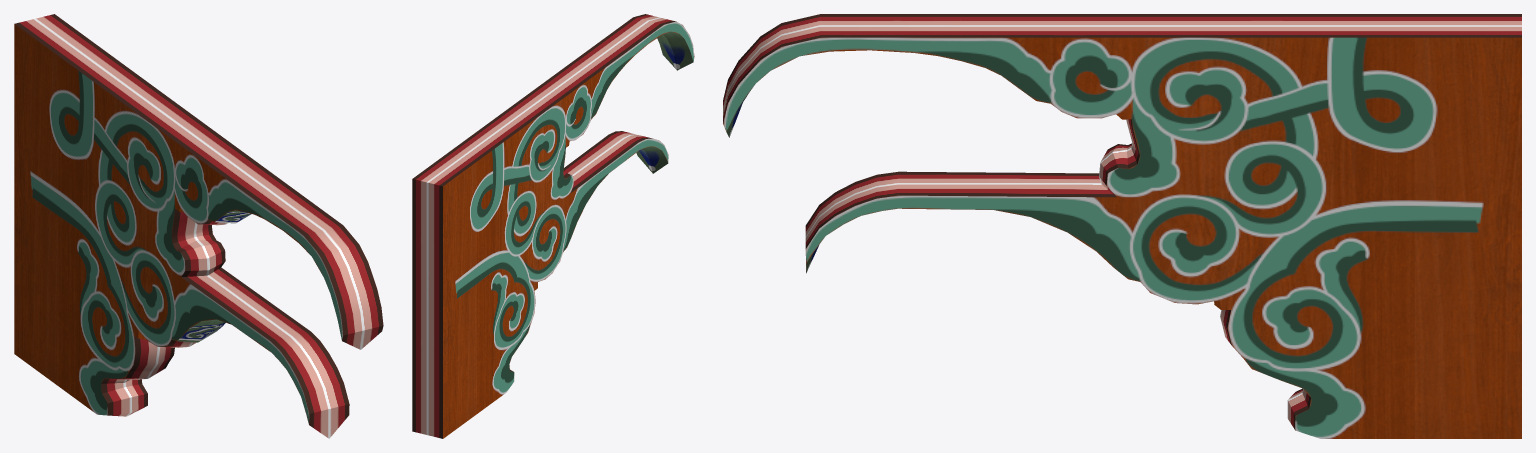
Rendered from SM_Gongpo04D.fbx.
The picture shows the model from 3 angles, left to right: view 1: azimuth 30°, elevation 25°; view 2: azimuth 150°, elevation 25°; view 3: azimuth 270°, elevation 25°; orthographic projection. The views are drawn at different scales.
Visible parts, largest first — view 1: SM_Gongpo04D; view 2: SM_Gongpo04D; view 3: SM_Gongpo04D.
Boxes of the visible parts, x1,y1,x2,y2 form: SM_Gongpo04D: [14, 14, 383, 438]; SM_Gongpo04D: [412, 14, 694, 438]; SM_Gongpo04D: [723, 14, 1521, 438].
Bounding box in the file's own units: 6.75 × 95.61 × 52.98.
1 material, 1 textured.
